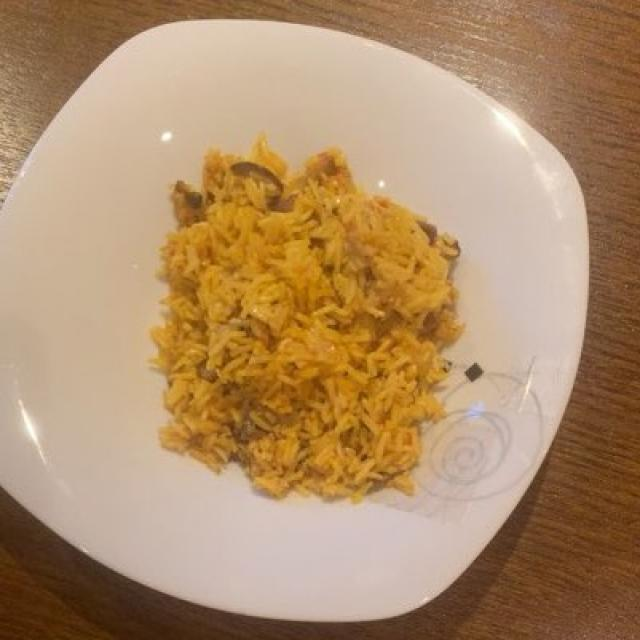cream: (157, 157, 468, 487)
mushroom: (169, 149, 447, 489)
rice: (159, 148, 460, 495)
